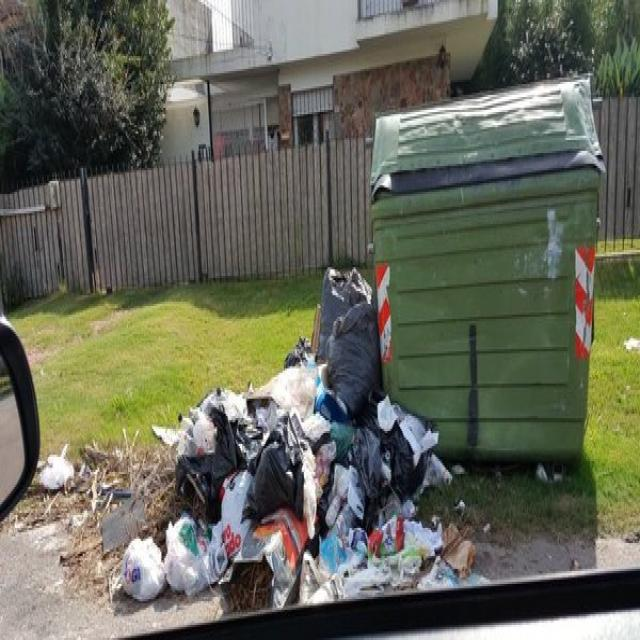garbage: (110, 369, 476, 625), (314, 258, 379, 433)
